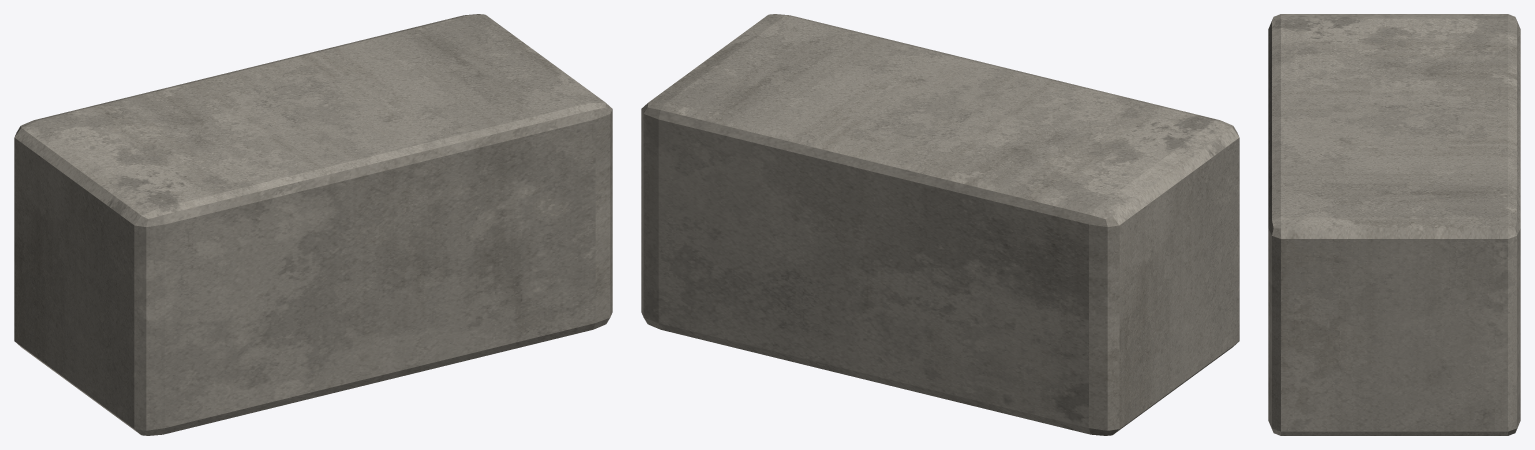
Rendered from Brick_2.0Textured.fbx.
3 renders of one model, left to right at view 1: azimuth 30°, elevation 25°; view 2: azimuth 150°, elevation 25°; view 3: azimuth 270°, elevation 25°, orthographic. The views are drawn at different scales.
Parts seen in each view (by area): view 1: Brick_2.001; view 2: Brick_2.001; view 3: Brick_2.001.
Boxes of the visible parts, x1,y1,x2,y2 form: Brick_2.001: [14, 14, 612, 435]; Brick_2.001: [641, 14, 1239, 435]; Brick_2.001: [1268, 14, 1520, 435].
Size of the model in its own units: 37.76 by 17.08 by 18.25.
